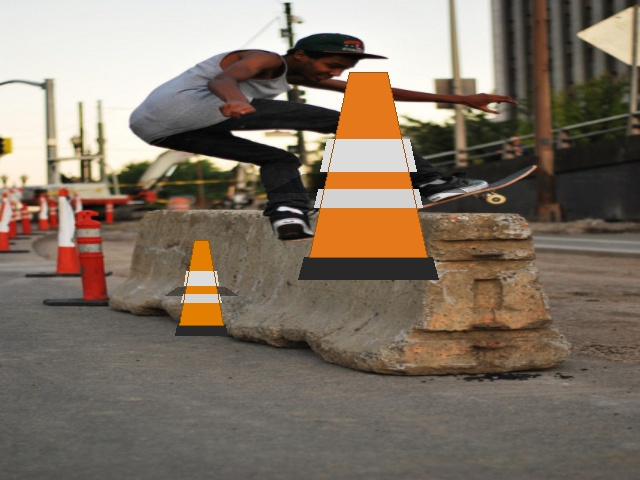traffic-cone: (298, 72, 438, 279), (175, 240, 227, 335)
